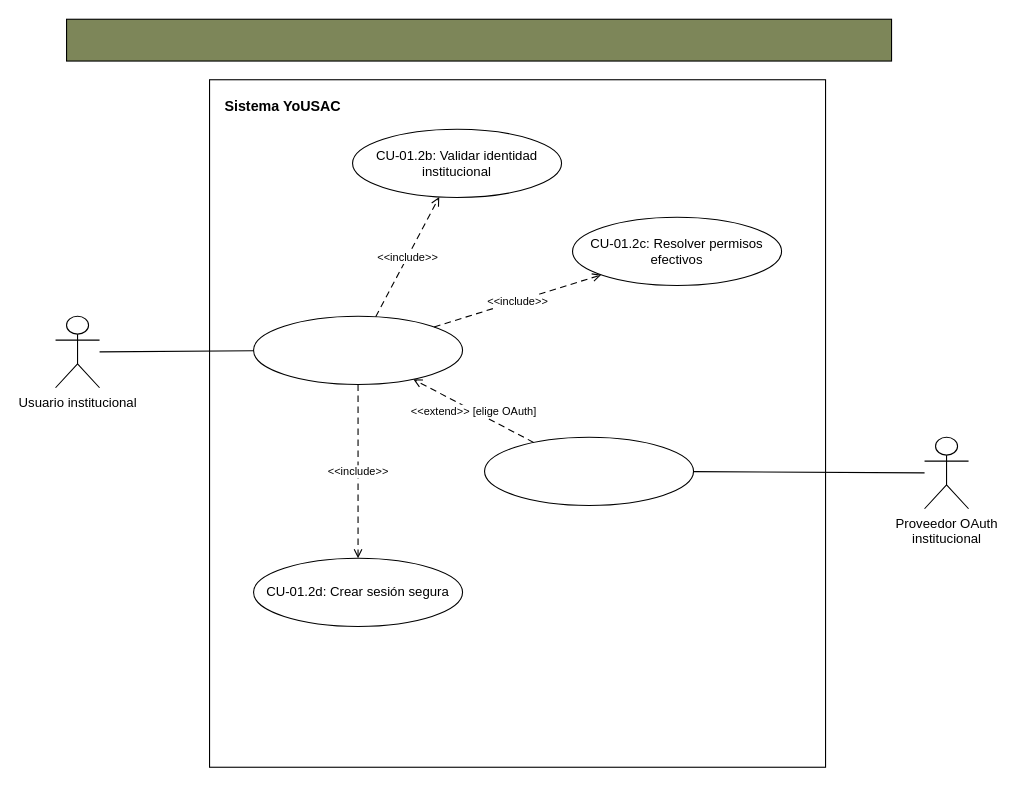
The diagram is 1016 pixels wide and 787 high, and some of its shapes have lost their labels. Here are the shapes that lost their labels. From the top down, the centre of each, then its label:
At pixel 478 39: "Plataforma YoUSAC — CU-01.2 — Iniciar sesión institucional".
At pixel 357 349: "CU-01.2: Iniciar sesión institucional".
At pixel 588 470: "CU-01.2a: Autenticarse mediante OAuth".
